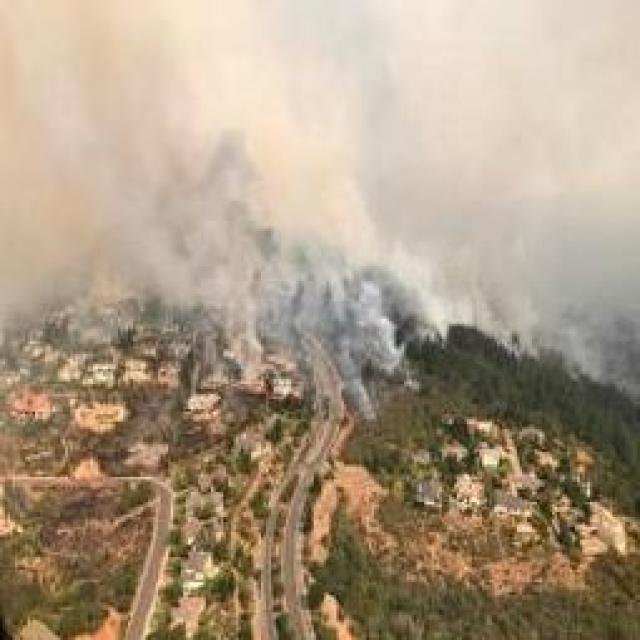Smoke: (30, 24, 629, 356)
